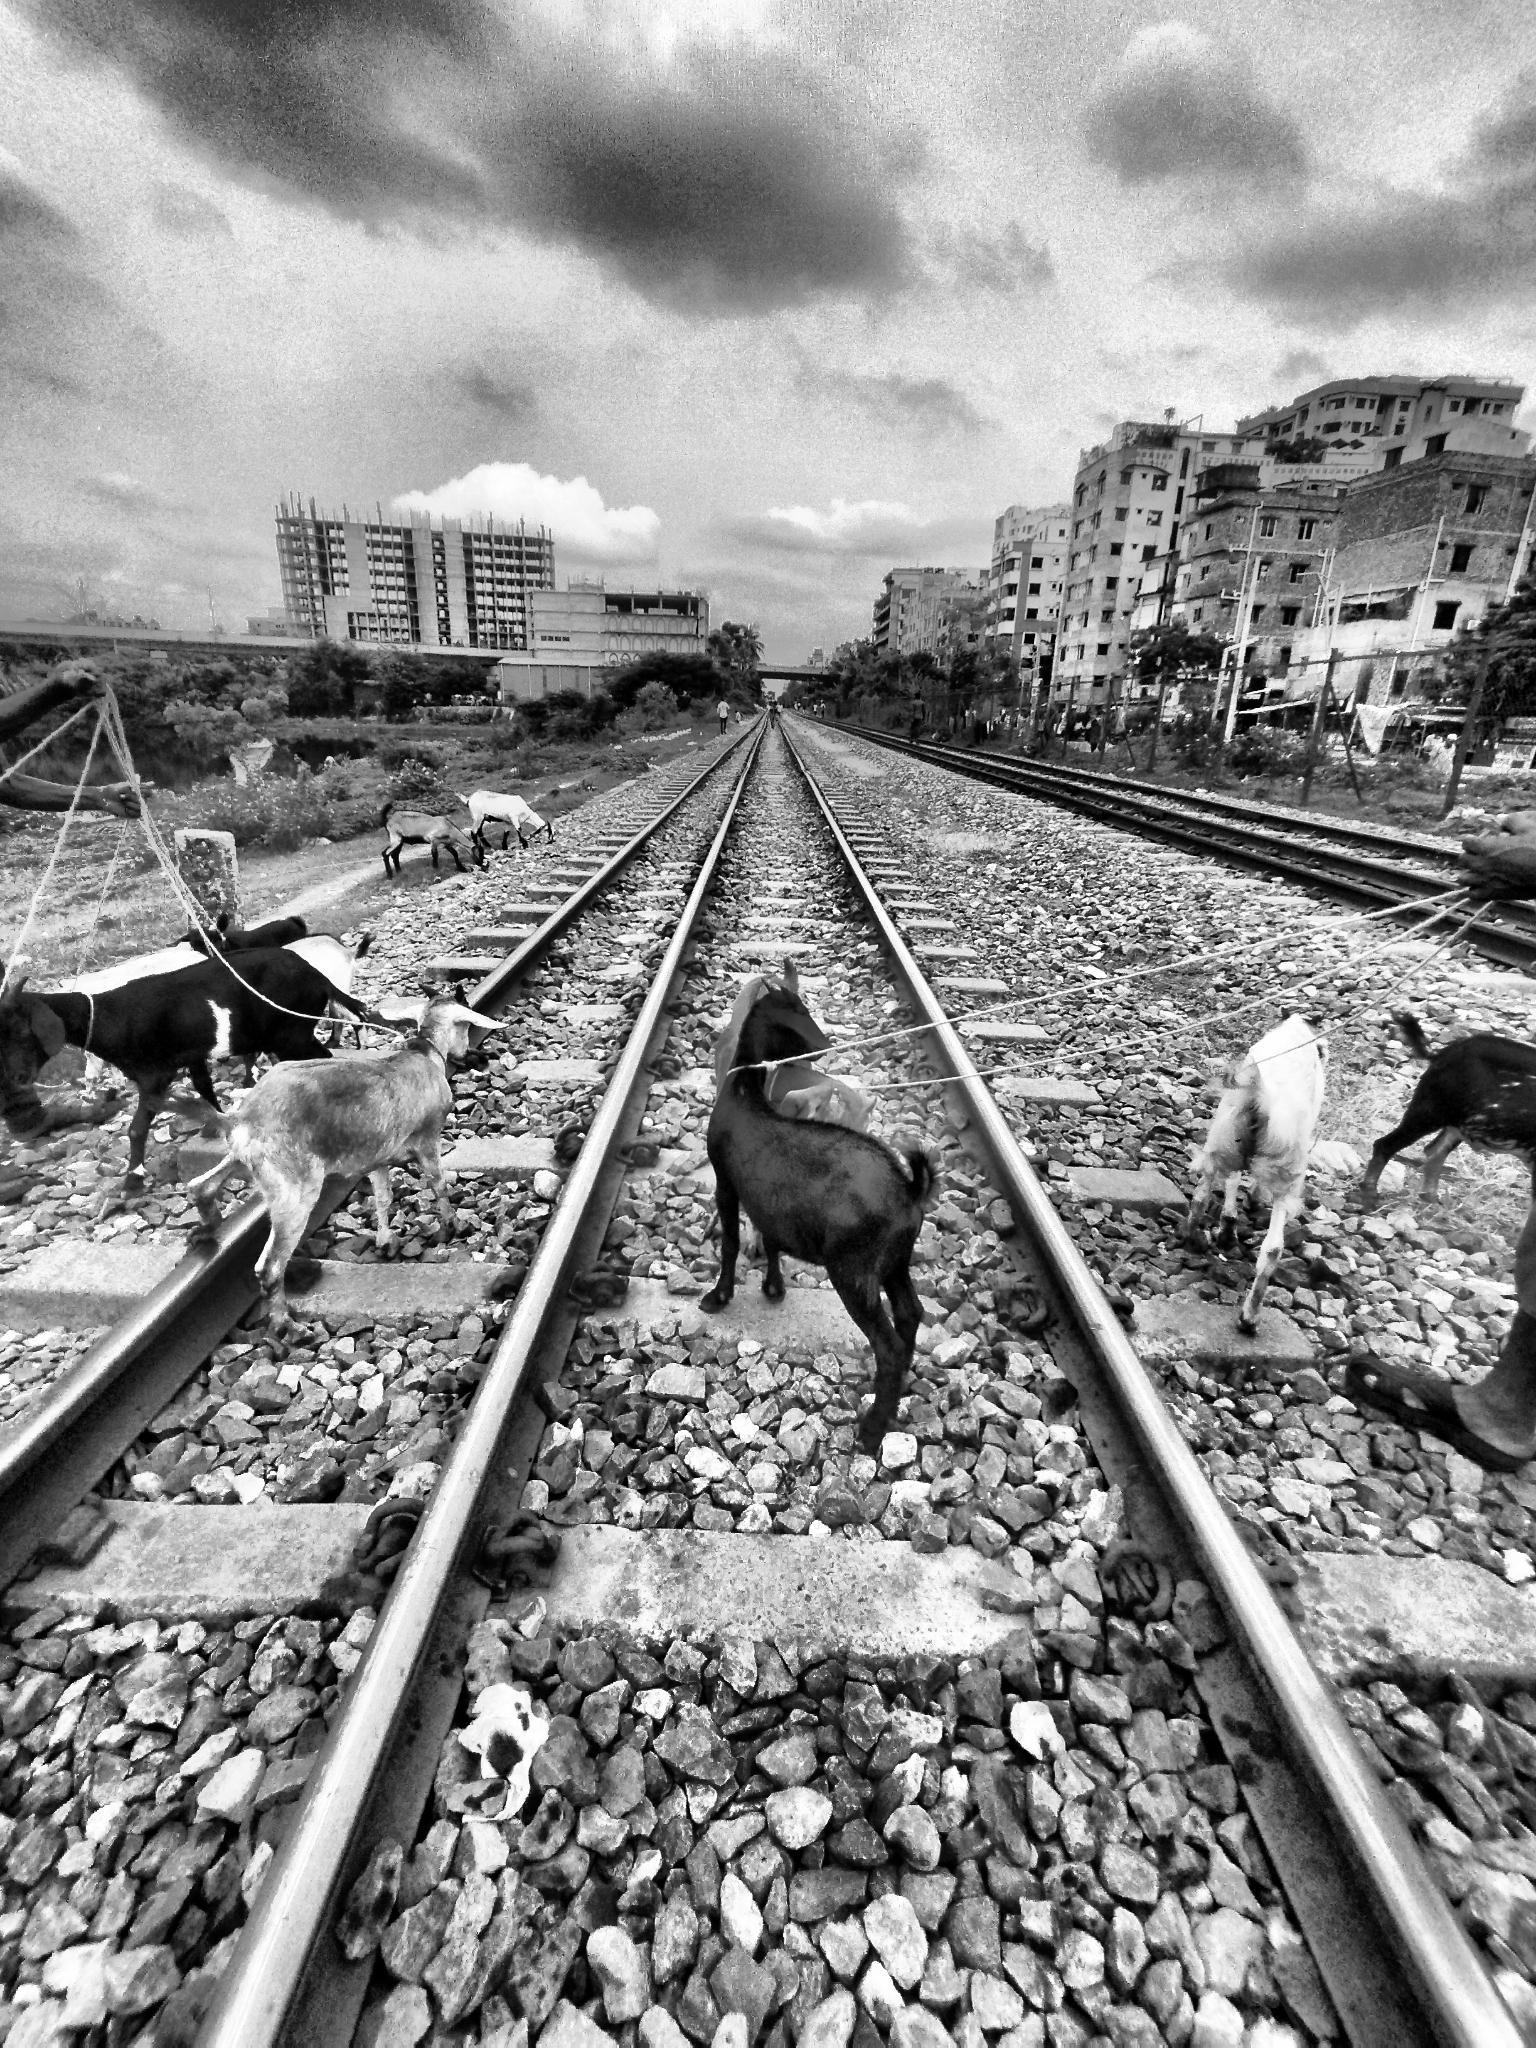Animal: (687, 989, 960, 1472), (210, 972, 515, 1324), (0, 945, 336, 1164), (1186, 1000, 1339, 1351), (1365, 1013, 1536, 1198), (720, 953, 891, 1122), (468, 772, 565, 856), (378, 803, 489, 869)
